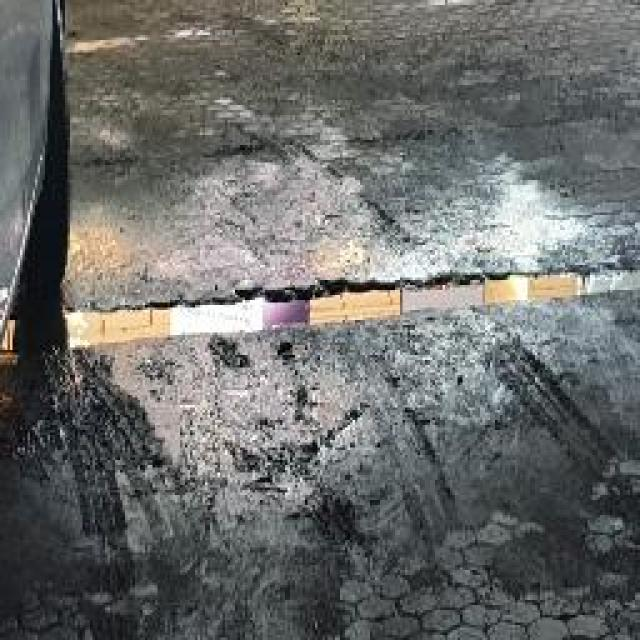stagnation: (85, 258, 640, 362)
